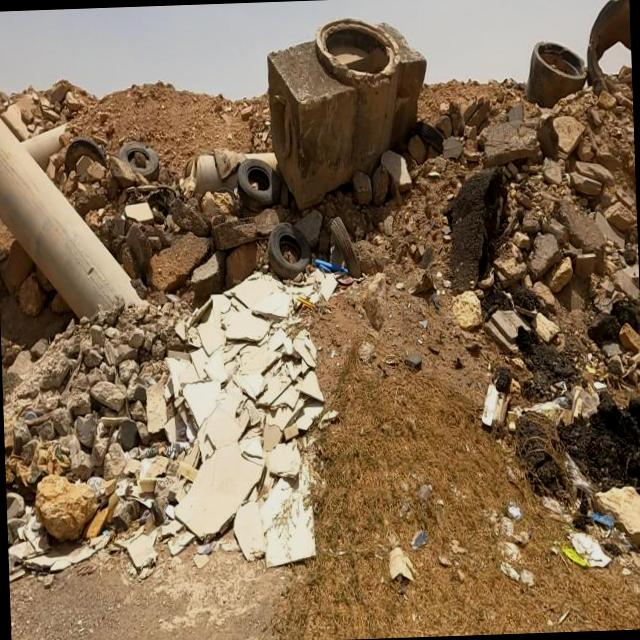debris: (134, 284, 386, 604), (388, 89, 538, 398), (474, 306, 640, 560), (162, 227, 338, 428), (212, 144, 368, 357), (440, 300, 560, 482), (192, 85, 314, 262), (529, 428, 640, 615), (27, 80, 154, 232), (90, 80, 194, 241)
